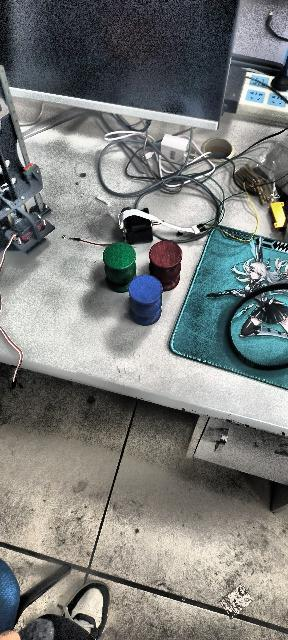blue: (128, 274, 162, 326)
green: (103, 241, 138, 292)
red: (148, 242, 182, 291)
